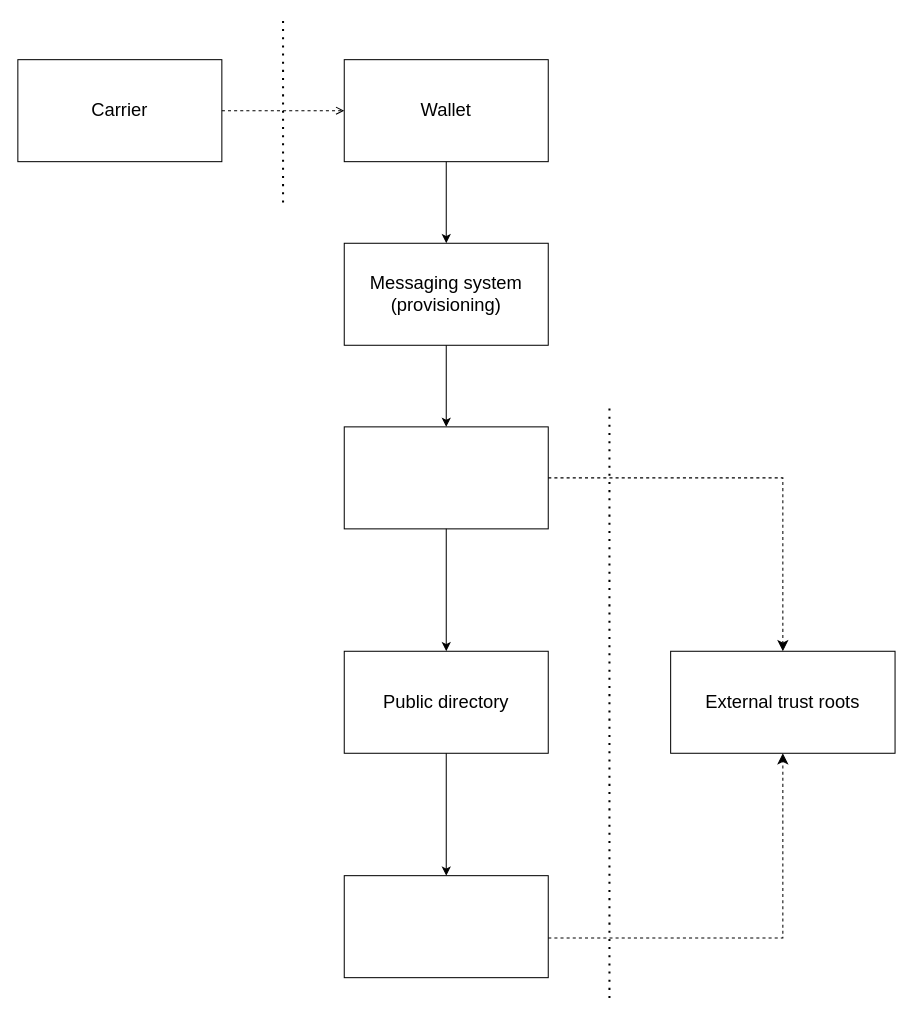
This 913x1017 diagram has some shape labels left out. The centre of each missing label's shape, as x and y in pixels:
Read client: point 445,926
Write-aggregator: point 445,477
